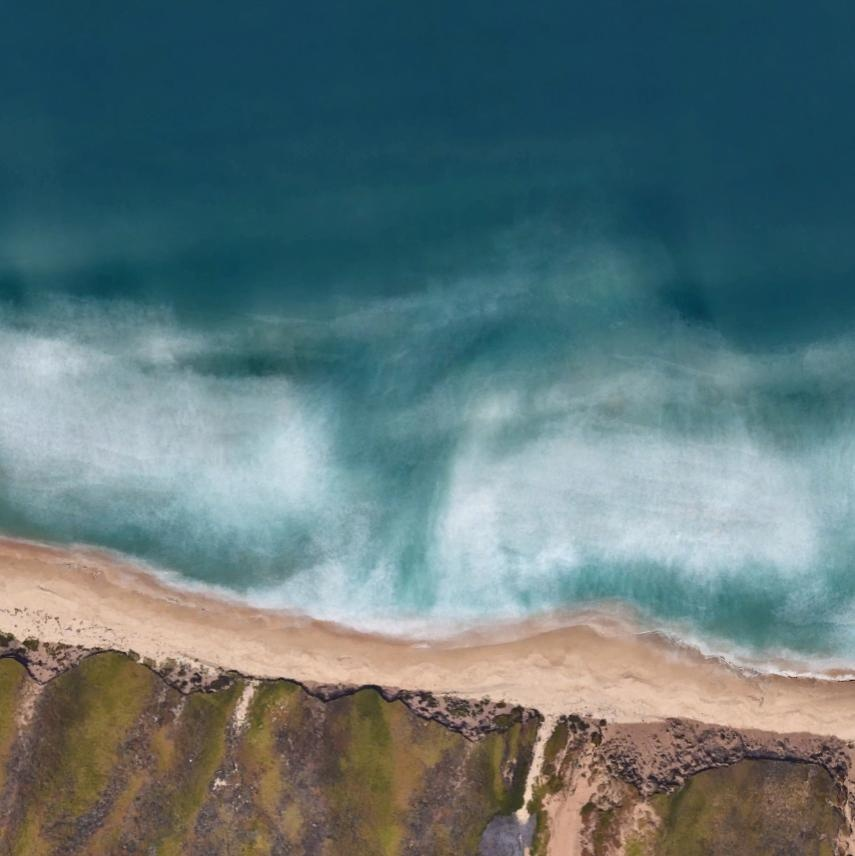rip_current: (247, 288, 502, 604)
